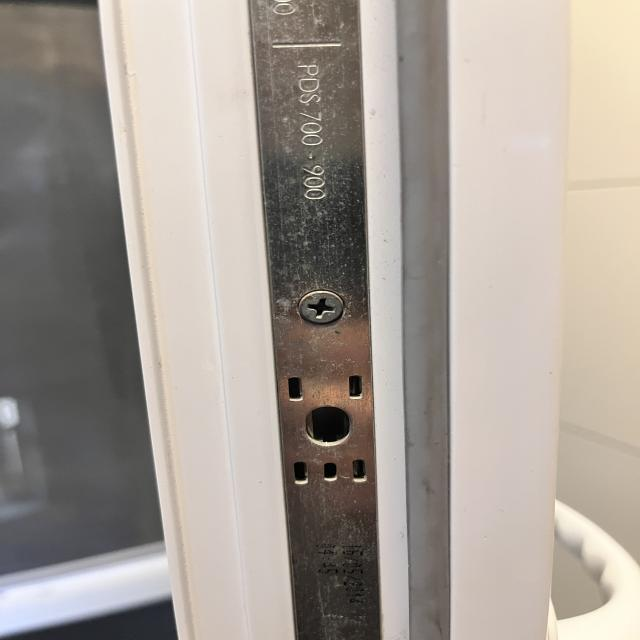phillips: (298, 288, 346, 326)
